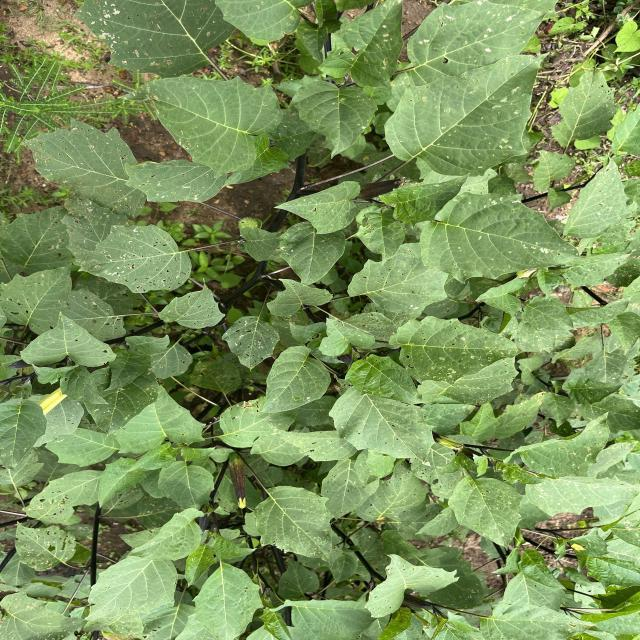Datura metal linn: (382, 50, 551, 178), (116, 74, 284, 180), (418, 190, 598, 285), (388, 314, 524, 386), (76, 222, 194, 296), (502, 410, 611, 481), (288, 80, 379, 162), (252, 484, 336, 566), (362, 552, 462, 620), (82, 556, 179, 623), (445, 474, 525, 555), (18, 310, 118, 369), (378, 172, 472, 230), (255, 344, 332, 414), (272, 180, 362, 236), (344, 353, 434, 405), (126, 507, 206, 562), (156, 277, 226, 330), (220, 314, 281, 374), (265, 276, 335, 318), (97, 456, 148, 509), (318, 316, 377, 357), (520, 294, 578, 332), (128, 442, 178, 472)
